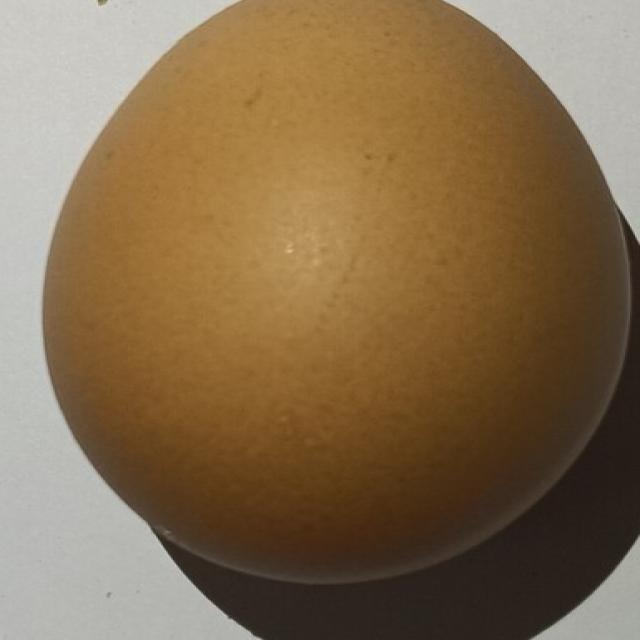fresh: (33, 0, 635, 581)
